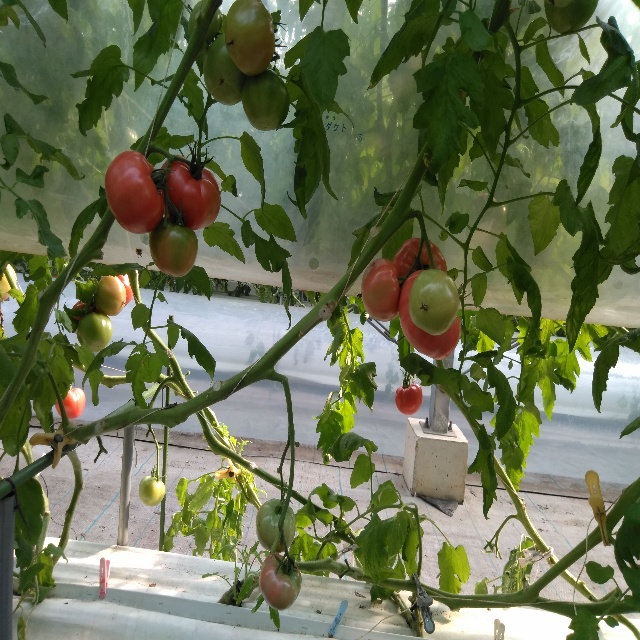b_fully_ripened: (398, 269, 461, 361), (104, 151, 165, 235), (159, 155, 221, 230), (392, 237, 447, 291), (54, 388, 86, 419), (395, 383, 423, 415), (117, 273, 133, 307)
b_green: (225, 0, 275, 76), (408, 269, 460, 336), (204, 34, 247, 106), (242, 67, 290, 131), (149, 217, 198, 277), (256, 498, 296, 553), (544, 0, 599, 35), (188, 0, 223, 47), (76, 313, 113, 353), (93, 276, 127, 316), (139, 475, 165, 507)
b_half_ripened: (259, 553, 302, 611), (362, 257, 400, 322), (0, 264, 17, 302)
